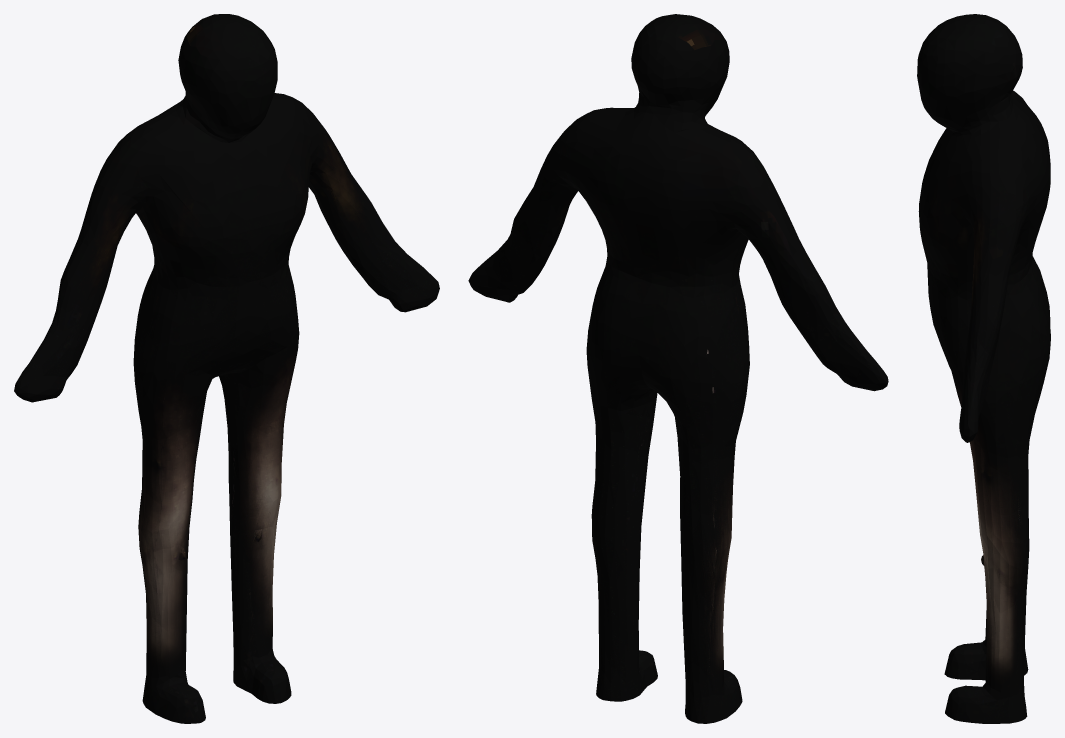
3 views of the same model, side by side, from view 1: azimuth 30°, elevation 25°; view 2: azimuth 150°, elevation 25°; view 3: azimuth 270°, elevation 25° (orthographic).
Visible parts, largest first — view 1: world; view 2: world; view 3: world.
Part boxes in pixels (x1,y1,x2,y2): world: (14,14,439,723); world: (468,14,888,723); world: (917,14,1050,723).
Bounding box in the file's own units: 0.6501 × 0.9991 × 0.1797.
Materials: 1 (1 with a texture image).
